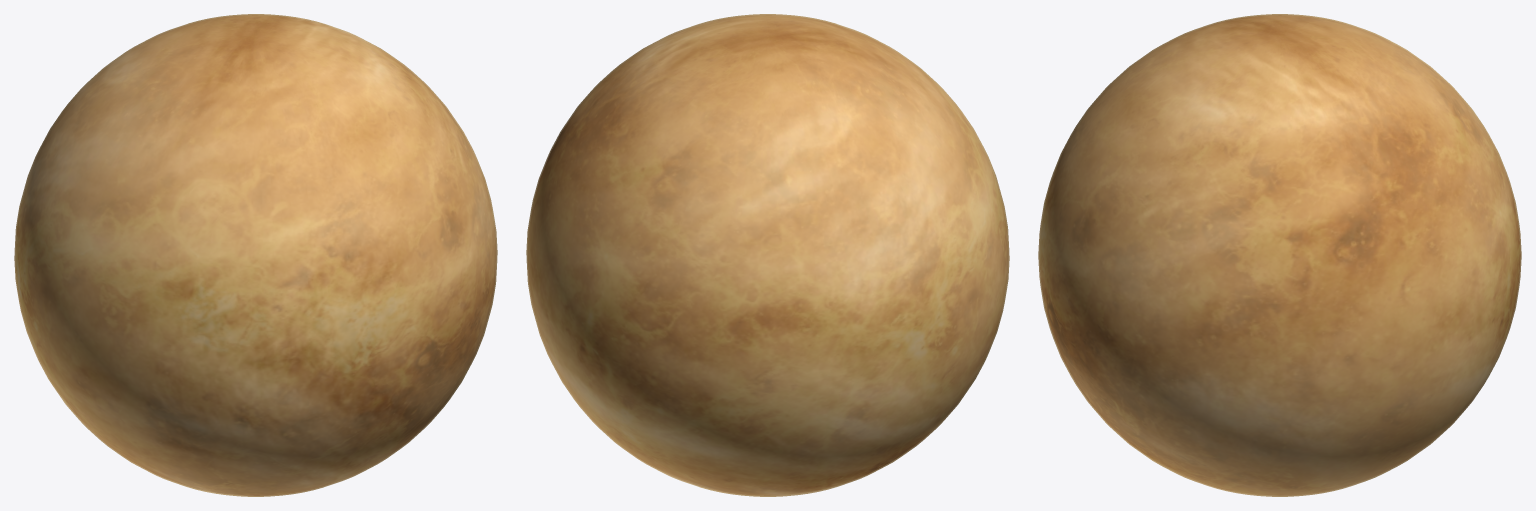
Rendered from centered_Venus.glb.
3 views of the same model, side by side, from view 1: azimuth 30°, elevation 25°; view 2: azimuth 150°, elevation 25°; view 3: azimuth 270°, elevation 25° (orthographic).
Parts seen in each view (by area): view 1: Venus; view 2: Venus; view 3: Venus.
Part boxes in pixels (x1=…): Venus: x1=14, y1=14, x2=497, y2=496; Venus: x1=526, y1=14, x2=1009, y2=496; Venus: x1=1038, y1=14, x2=1521, y2=496.
Size of the model in its own units: 13.77 by 13.77 by 13.77.
Materials: 2 (2 with a texture image).
